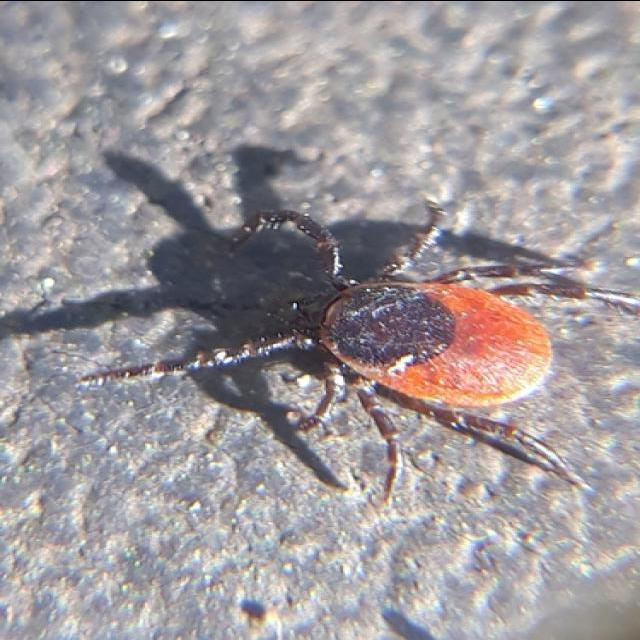Ixodes Ricinus-F: (80, 196, 640, 504)
